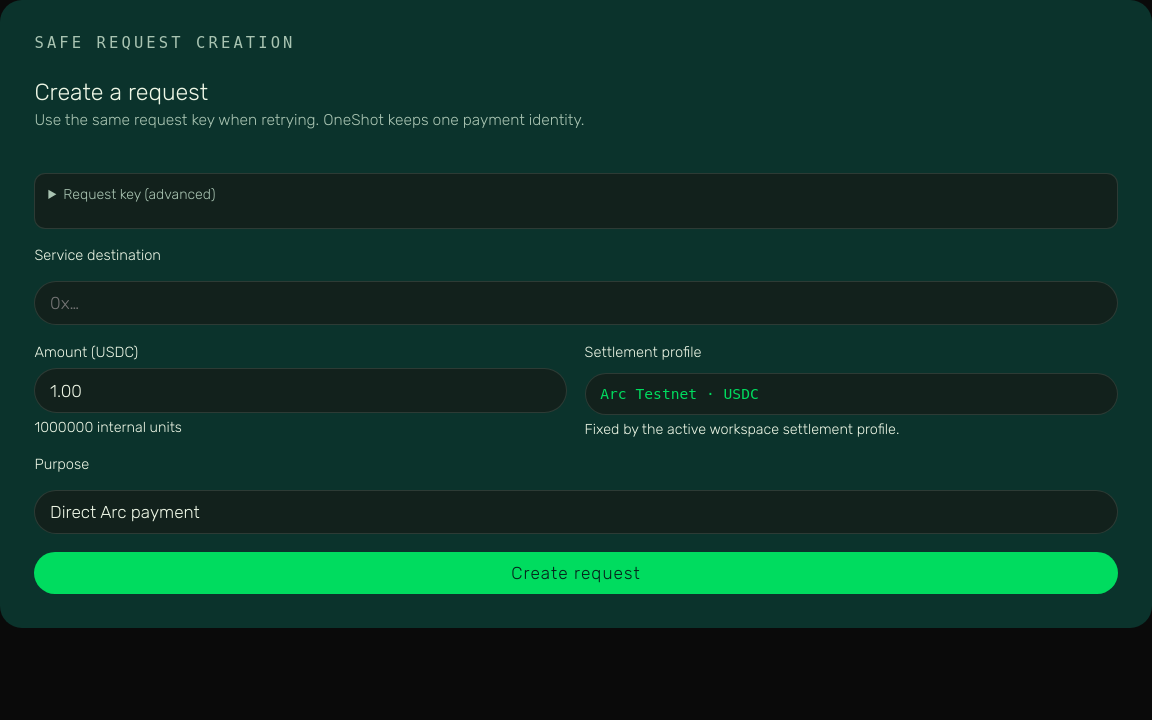
it: IntentForm › shows payload conflict without generating another ID
Step 1. Type "0x1111111111111111111111111111111111111111" into the field labelled "Service destination" → (576, 303), box [34,281,1118,325]
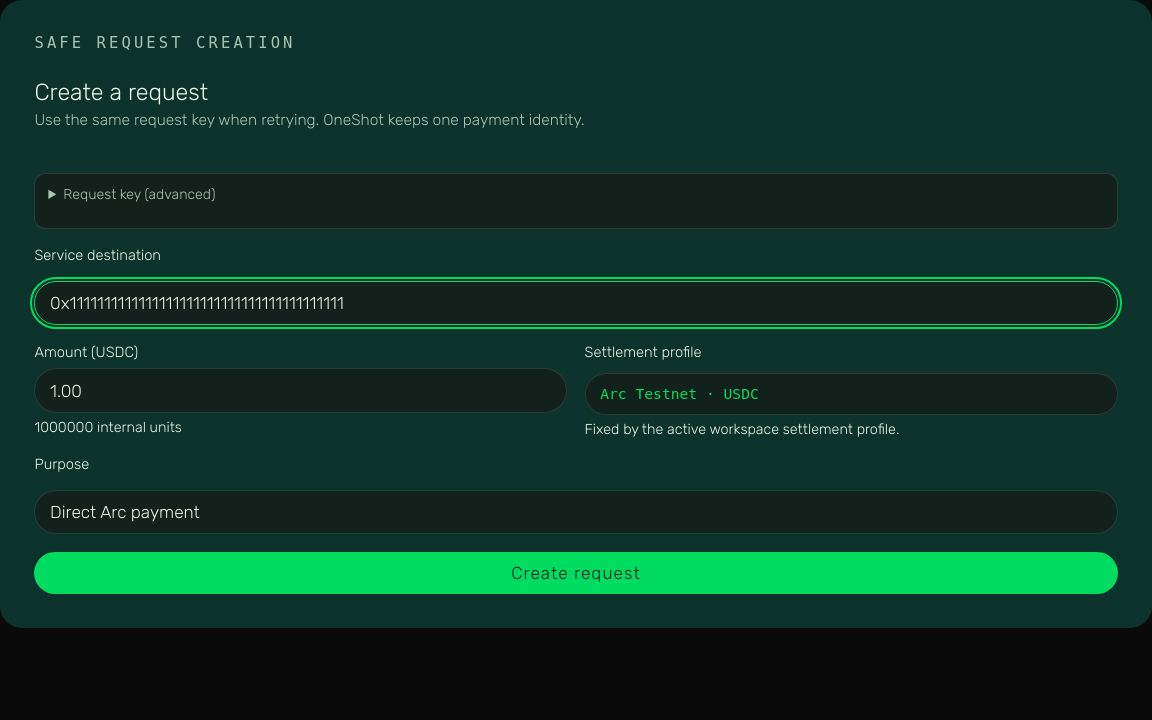
Step 2. Click the button "Create request" → (576, 573), box [34,552,1118,594]
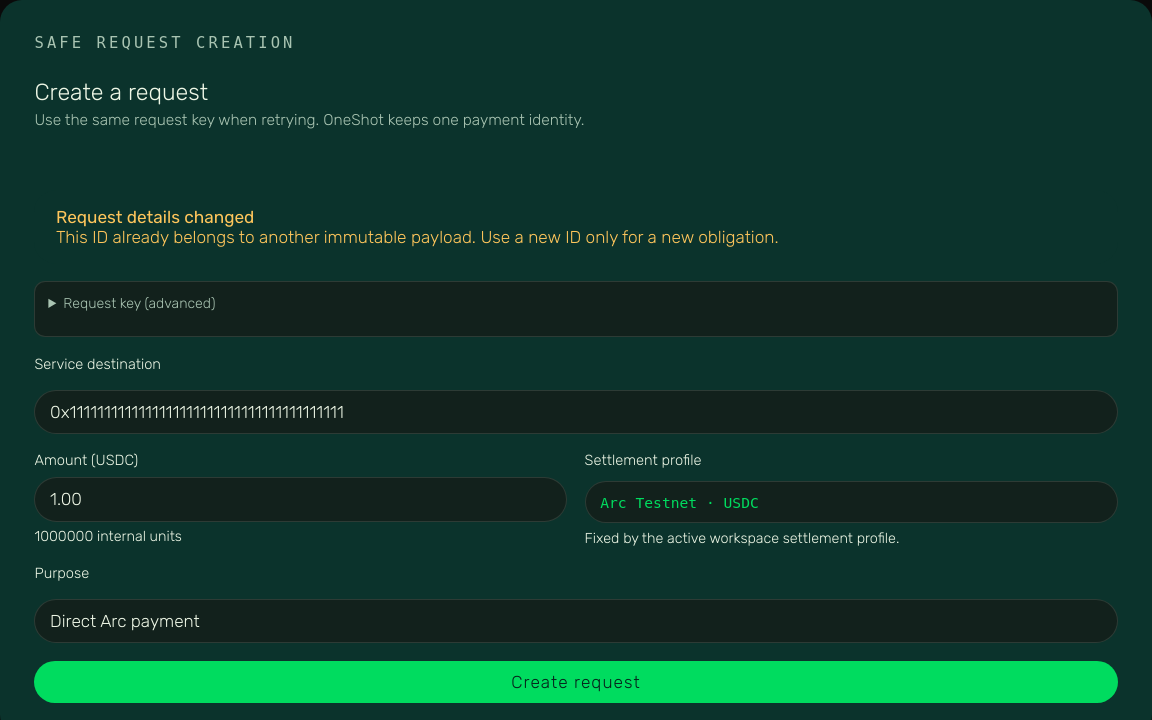
Expected: the text "Request details changed" is shown, [56,207,254,227]
